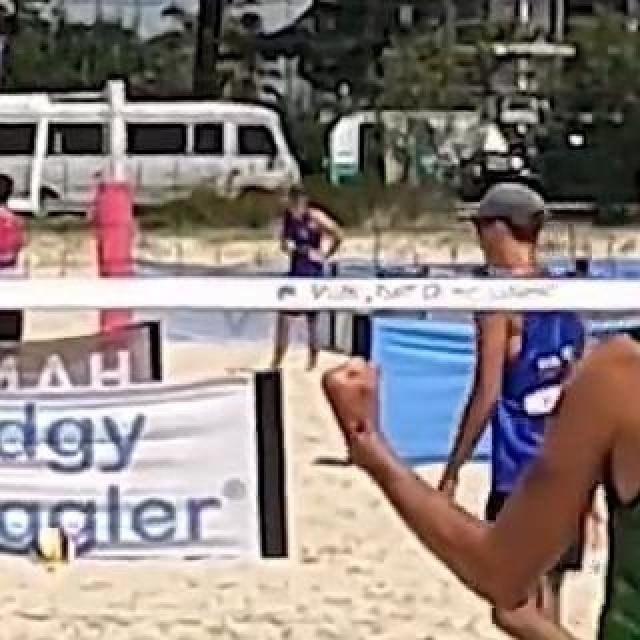volleyball: (28, 526, 76, 574)
